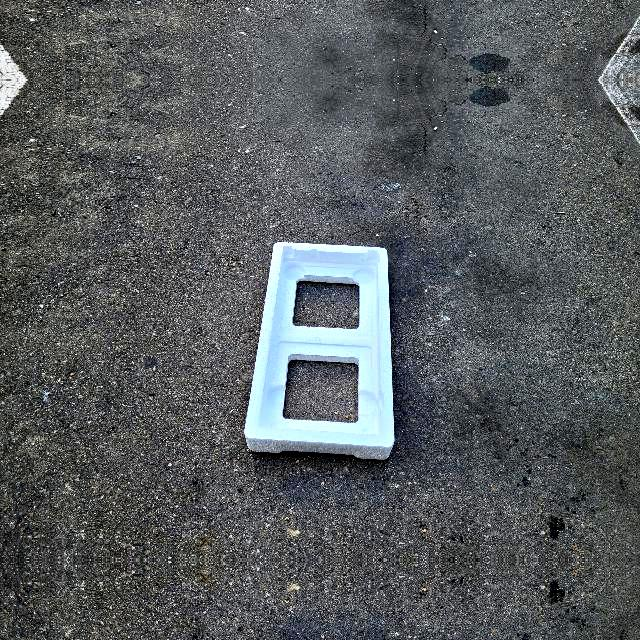Styrofoam: (245, 242, 395, 460), (246, 241, 394, 459)
